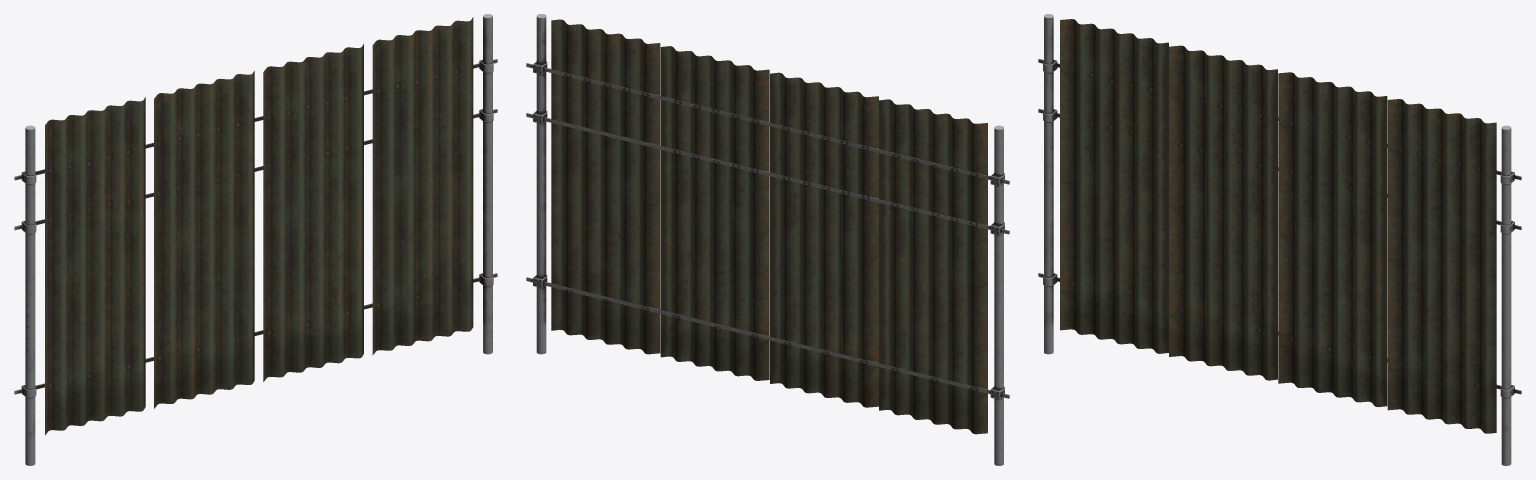
The model's file is fence_metal_-_13mb.glb.
3 views of the same model, side by side, from view 1: azimuth 30°, elevation 25°; view 2: azimuth 150°, elevation 25°; view 3: azimuth 330°, elevation 25° (orthographic).
Visible parts, largest first — view 1: Fencemetal_2; view 2: Fencemetal_2; view 3: Fencemetal_2.
Boxes of the visible parts, x1,y1,x2,y2 form: Fencemetal_2: (14,14,497,465); Fencemetal_2: (526,14,1009,465); Fencemetal_2: (1038,14,1521,465).
Bounding box in the file's own units: 4.51 × 3 × 0.1147.
1 material, 1 textured.
